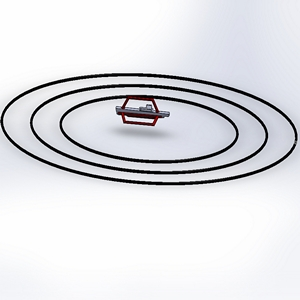circle: (1, 53, 300, 190)
submarine: (108, 88, 172, 141)
